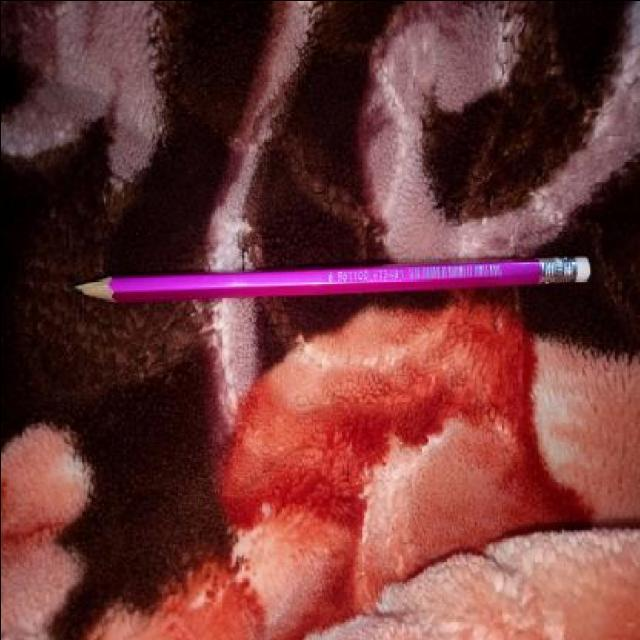pencil: (58, 264, 130, 310)
